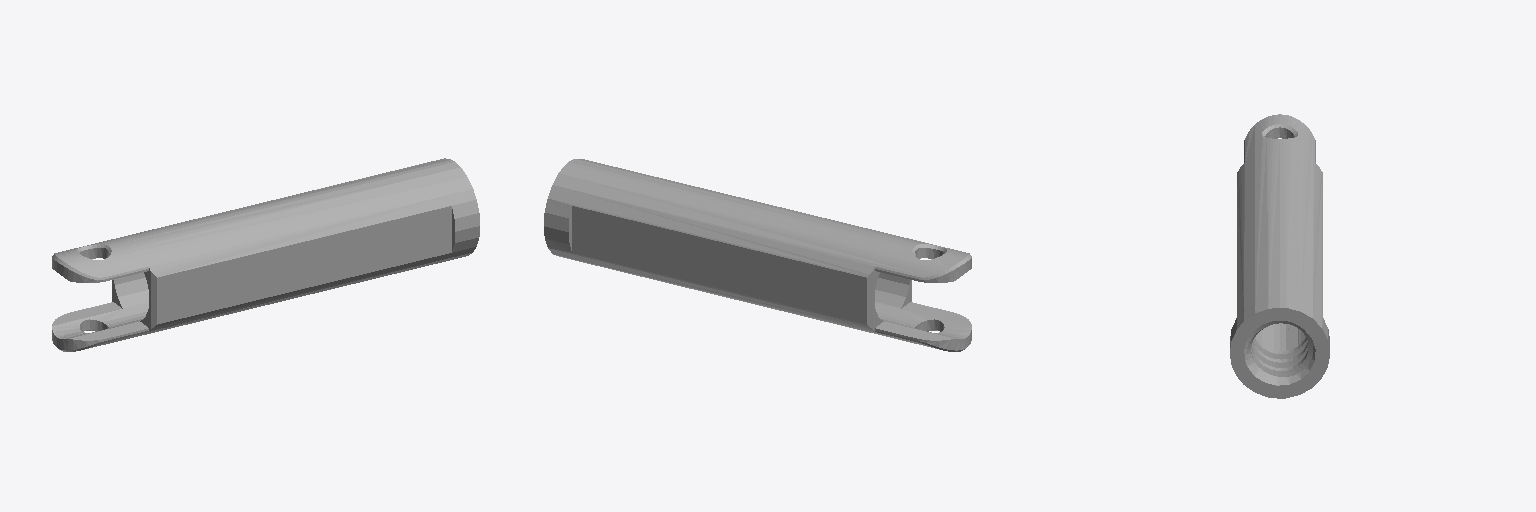
File: index_slider.obj
3 renders of one model, left to right at view 1: azimuth 30°, elevation 25°; view 2: azimuth 150°, elevation 25°; view 3: azimuth 270°, elevation 25°, orthographic.
Visible parts, largest first — view 1: mf_slider_link; view 2: mf_slider_link; view 3: mf_slider_link.
Boxes of the visible parts, x1,y1,x2,y2 form: mf_slider_link: [52, 158, 479, 351]; mf_slider_link: [544, 159, 971, 351]; mf_slider_link: [1230, 114, 1329, 398].
Bounding box in the file's own units: 0.032 × 0.007 × 0.007.